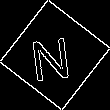N_N: (32, 28, 78, 82)
